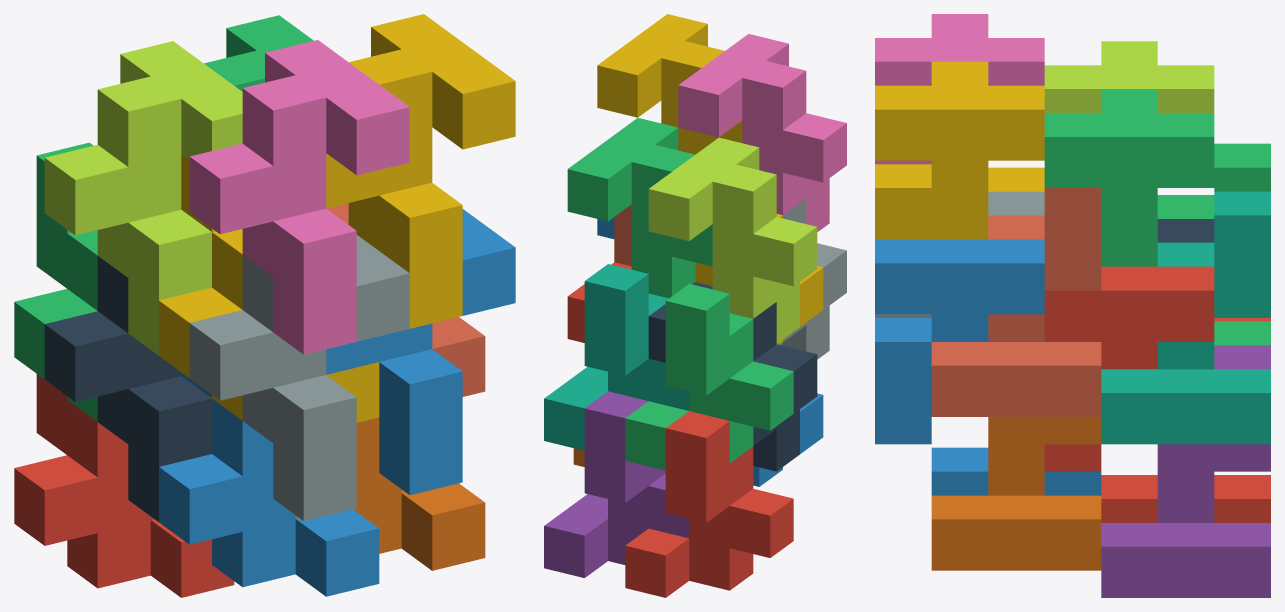
Rendered from tiling.obj.
3 renders of one model, left to right at view 1: azimuth 30°, elevation 25°; view 2: azimuth 150°, elevation 25°; view 3: azimuth 270°, elevation 25°, orthographic. The views are drawn at different scales.
Visible parts, largest first — view 1: copy_2_domain_4, copy_2_domain_3, copy_2_domain_8, copy_2_domain_2, copy_1_domain_2, copy_1_domain_1, copy_2_domain_1, copy_2_domain_6, copy_1_domain_6, copy_1_domain_3, copy_1_domain_4, copy_2_domain_7 (+1 smaller); view 2: copy_1_domain_1, copy_2_domain_3, copy_2_domain_4, copy_1_domain_3, copy_1_domain_5, copy_1_domain_7, copy_2_domain_7, copy_2_domain_8, copy_2_domain_1, copy_2_domain_2, copy_1_domain_4, copy_1_domain_2 (+2 smaller); view 3: copy_1_domain_7, copy_2_domain_8, copy_1_domain_8, copy_2_domain_6, copy_1_domain_5, copy_1_domain_6, copy_2_domain_7, copy_2_domain_5, copy_2_domain_4, copy_2_domain_3, copy_1_domain_1, copy_1_domain_3 (+4 smaller).
Boxes of the visible parts, <box> form: copy_2_domain_4: <box>189,40,409,354</box>; copy_2_domain_3: <box>44,41,242,355</box>; copy_2_domain_8: <box>326,14,515,328</box>; copy_2_domain_2: <box>189,235,409,520</box>; copy_1_domain_2: <box>159,372,379,596</box>; copy_1_domain_1: <box>14,374,234,597</box>; copy_2_domain_1: <box>44,256,211,521</box>; copy_2_domain_6: <box>326,209,515,494</box>; copy_1_domain_6: <box>295,417,485,570</box>; copy_1_domain_3: <box>14,142,97,421</box>; copy_1_domain_4: <box>159,154,379,422</box>; copy_2_domain_7: <box>204,15,313,91</box>; copy_1_domain_1: <box>625,411,793,597</box>; copy_2_domain_3: <box>648,137,817,343</box>; copy_2_domain_4: <box>678,34,846,231</box>; copy_1_domain_3: <box>625,283,793,470</box>; copy_1_domain_5: <box>544,391,689,577</box>; copy_1_domain_7: <box>544,264,689,450</box>; copy_2_domain_7: <box>567,118,712,298</box>; copy_2_domain_8: <box>597,14,742,154</box>; copy_2_domain_1: <box>648,282,817,471</box>; copy_2_domain_2: <box>783,198,846,359</box>; copy_1_domain_4: <box>695,214,823,344</box>; copy_1_domain_2: <box>753,342,823,486</box>; copy_1_domain_7: <box>1101,191,1270,444</box>; copy_2_domain_8: <box>875,61,1044,239</box>; copy_1_domain_8: <box>931,188,1101,416</box>; copy_2_domain_6: <box>875,239,1044,444</box>; copy_1_domain_5: <box>1101,345,1270,597</box>; copy_1_domain_6: <box>931,417,1101,570</box>; copy_2_domain_7: <box>1044,89,1214,266</box>; copy_2_domain_5: <box>1044,266,1214,471</box>; copy_2_domain_4: <box>875,14,1044,164</box>; copy_2_domain_3: <box>1044,41,1214,112</box>; copy_1_domain_1: <box>1101,318,1270,522</box>; copy_1_domain_3: <box>1157,143,1270,345</box>.
Bounding box in the file's own units: 6 × 10 × 7.
